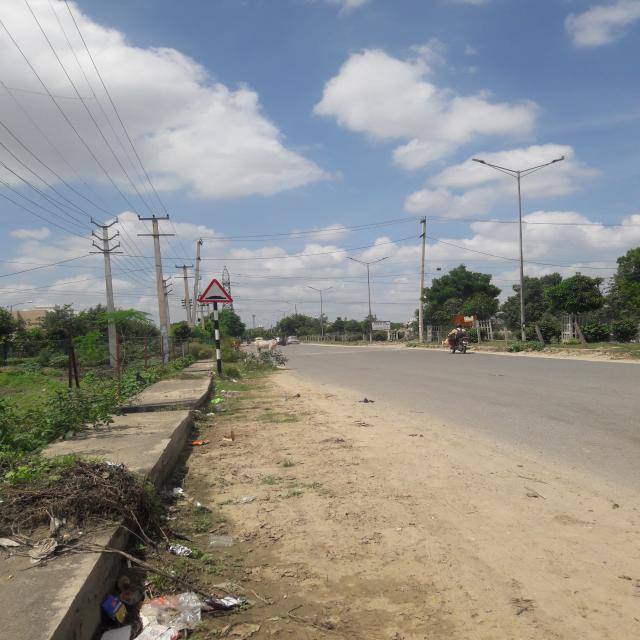hump or rough road: (196, 278, 234, 303)
